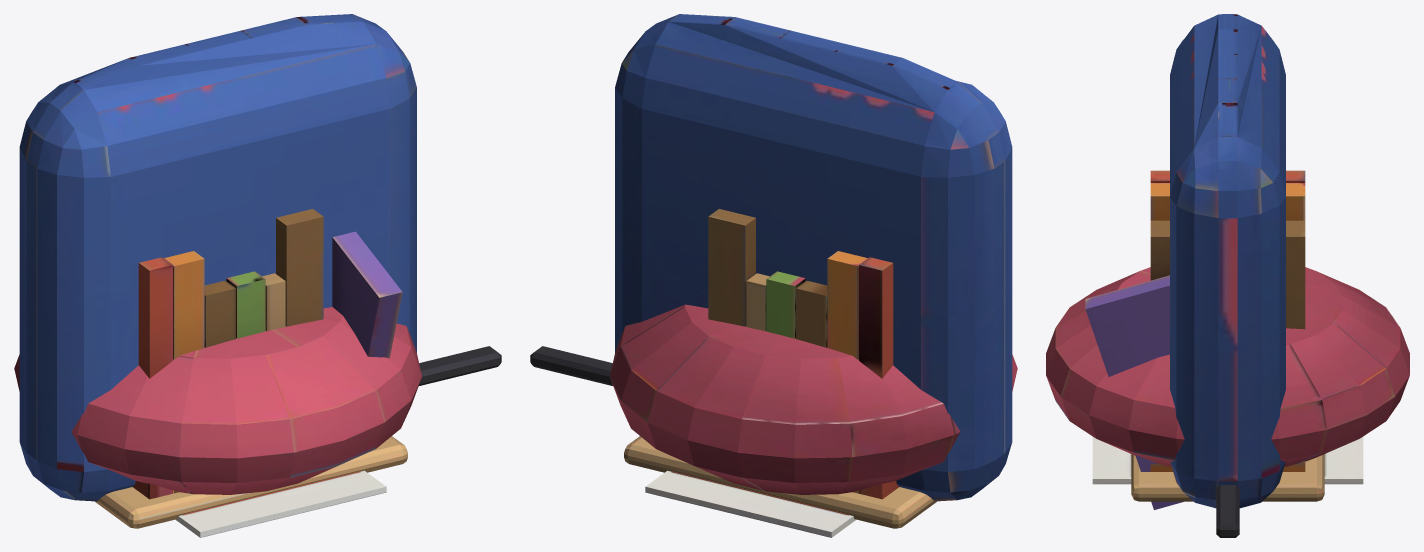
File: houses_props.glb
3 renders of one model, left to right at view 1: azimuth 30°, elevation 25°; view 2: azimuth 150°, elevation 25°; view 3: azimuth 270°, elevation 25°, orthographic. The views are drawn at different scales.
Visible parts, largest first — view 1: prop__cushion_sq, prop__cushion_round, prop__book_row, prop__magazine, prop__cutting_board, prop__pan; view 2: prop__cushion_sq, prop__cushion_round, prop__book_row, prop__magazine, prop__cutting_board, prop__pan; view 3: prop__cushion_sq, prop__cushion_round, prop__book_row, prop__cutting_board, prop__magazine, prop__pan.
Part boxes in pixels (x1,y1,x2,y2): prop__cushion_sq: [19, 14, 416, 501]; prop__cushion_round: [14, 307, 421, 494]; prop__book_row: [133, 209, 402, 499]; prop__magazine: [176, 470, 386, 537]; prop__cutting_board: [95, 436, 407, 528]; prop__pan: [419, 346, 501, 385]; prop__cushion_sq: [615, 14, 1012, 501]; prop__cushion_round: [610, 304, 1017, 494]; prop__book_row: [708, 209, 898, 499]; prop__magazine: [645, 470, 855, 537]; prop__cutting_board: [624, 436, 936, 528]; prop__pan: [530, 346, 612, 385]; prop__cushion_sq: [1170, 14, 1285, 508]; prop__cushion_round: [1046, 267, 1409, 466]; prop__book_row: [1085, 170, 1305, 509]; prop__cutting_board: [1131, 454, 1324, 501]; prop__magazine: [1092, 437, 1363, 484]; prop__pan: [1216, 485, 1239, 537].
Bounding box in the file's own units: 0.5 × 0.4536 × 0.3761.
Materials: 1 (1 with a texture image).
